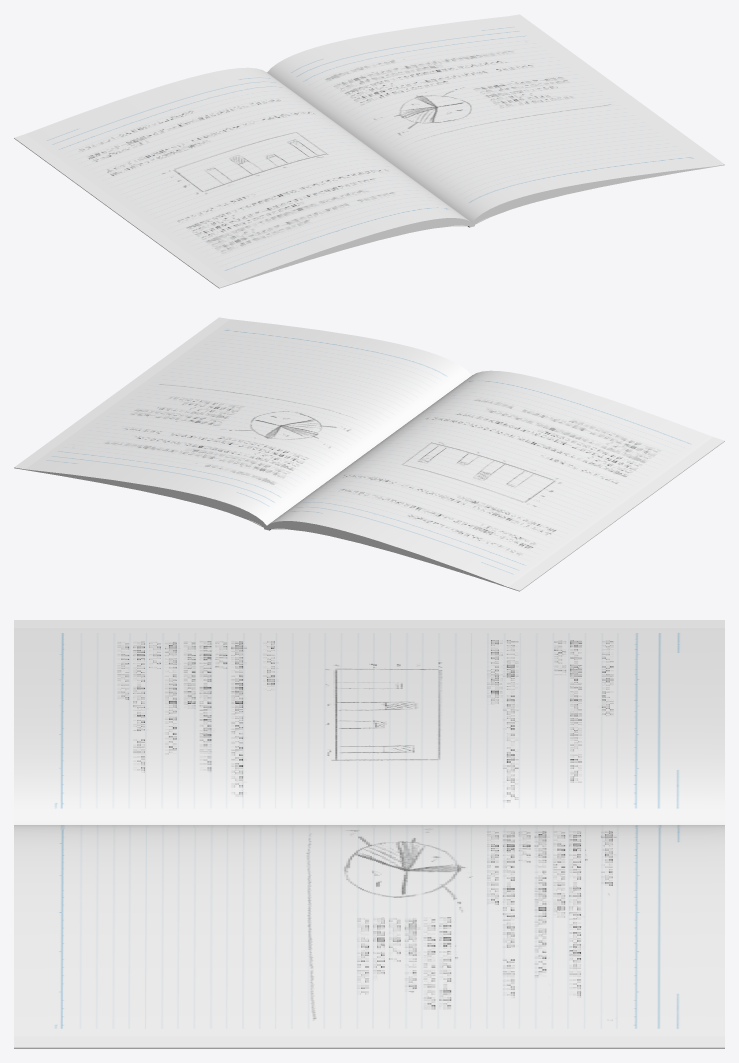
The model's file is 442_大学ノート開記入あり.glb.
3 views of the same model, one above another, from view 1: azimuth 30°, elevation 25°; view 2: azimuth 150°, elevation 25°; view 3: azimuth 270°, elevation 25° (orthographic). The views are drawn at different scales.
Visible parts, largest first — view 1: notebook_open; view 2: notebook_open; view 3: notebook_open.
Boxes of the visible parts, x1=… form: notebook_open: x1=14, y1=14, x2=724, y2=288; notebook_open: x1=14, y1=317, x2=724, y2=591; notebook_open: x1=14, y1=620, x2=724, y2=1048.
Size of the model in its own units: 0.3587 by 0.0122 by 0.252.
Materials: 4 (2 with a texture image).
